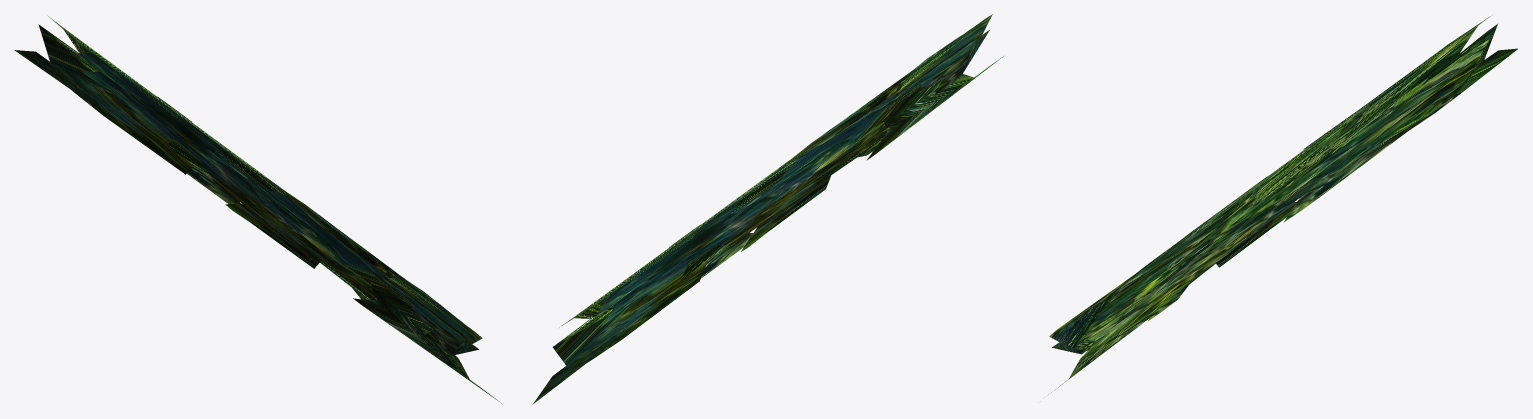
3 renders of one model, left to right at view 1: azimuth 30°, elevation 25°; view 2: azimuth 150°, elevation 25°; view 3: azimuth 330°, elevation 25°, orthographic.
Parts seen in each view (by area): view 1: algae_cube_Cube; view 2: algae_cube_Cube; view 3: algae_cube_Cube.
Boxes of the visible parts, left/top/right/bottom form: algae_cube_Cube: left=14, top=15, right=501, bottom=403; algae_cube_Cube: left=532, top=14, right=1003, bottom=404; algae_cube_Cube: left=1048, top=15, right=1517, bottom=394.
Size of the model in its own units: 0.0129 by 0.155 by 2.41.
